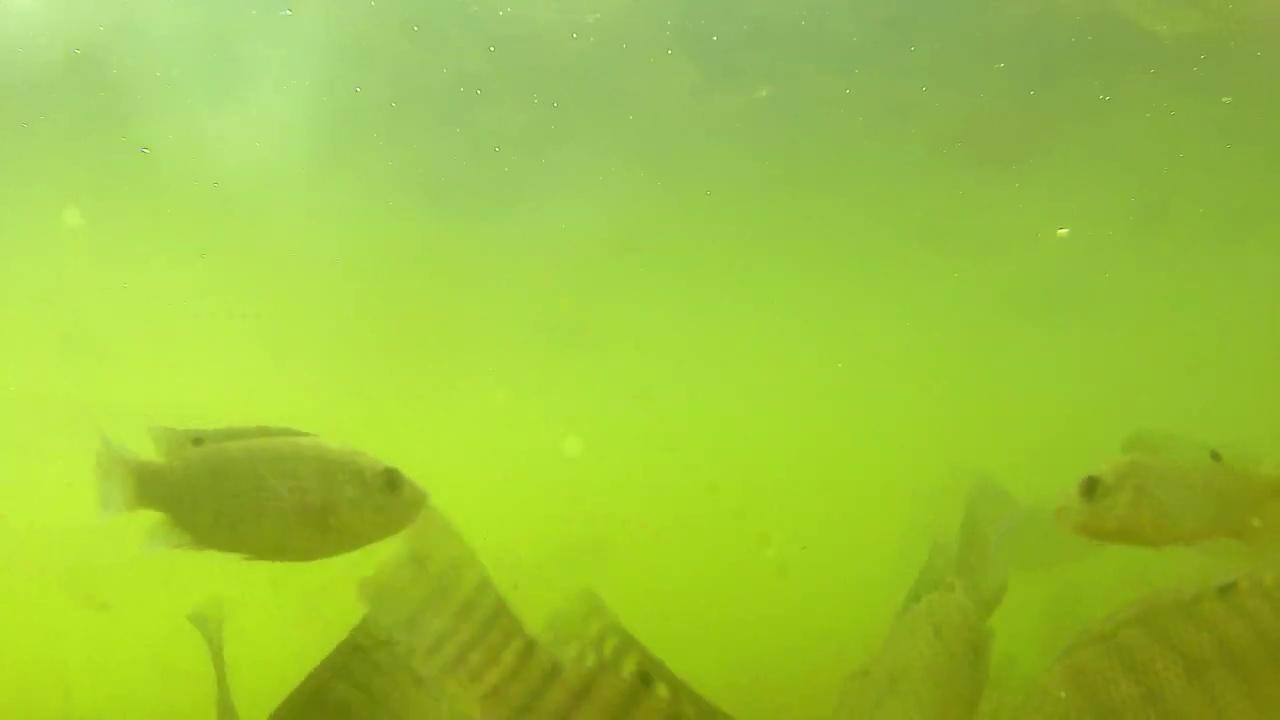Tilapia: (93, 420, 428, 556), (1067, 430, 1280, 560)
